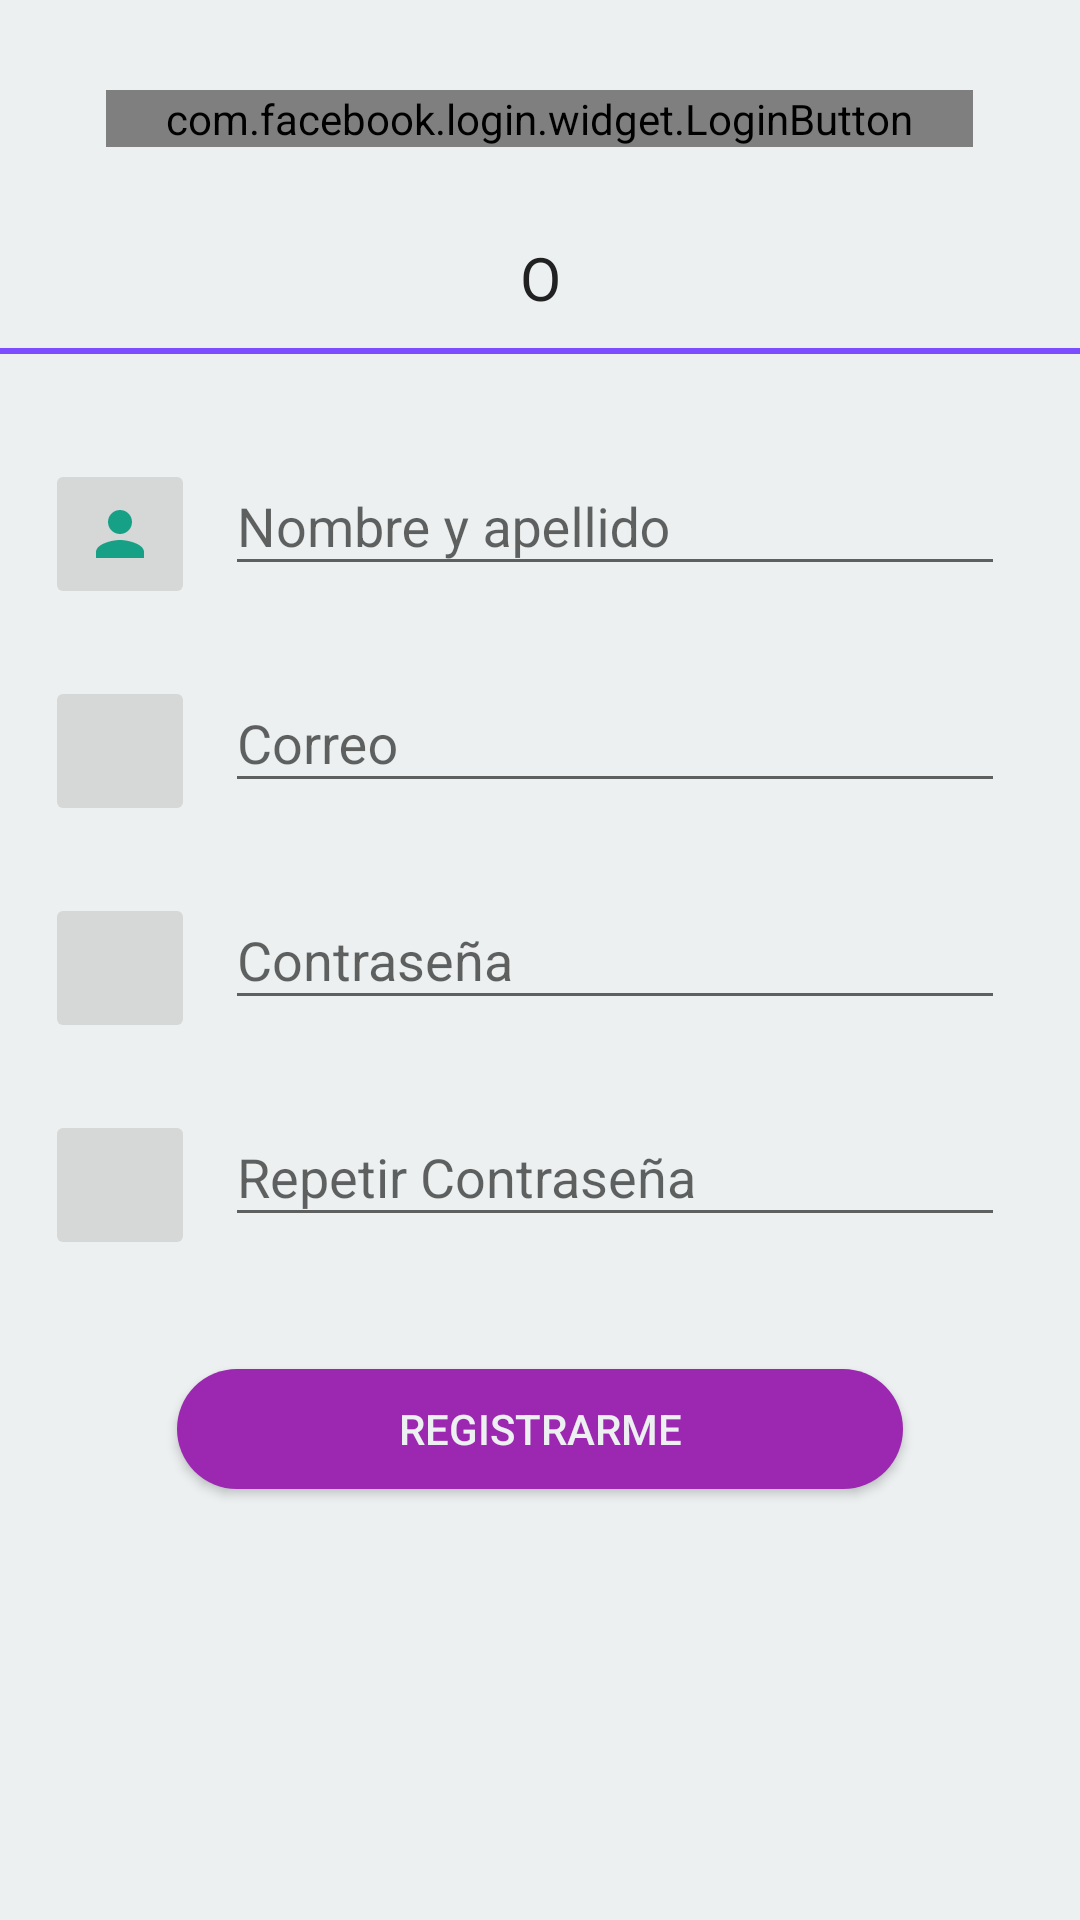

Screen size 1080px×1920px. Icon name, then its box in pixels as (x1, y1, x2, y2):
person: (57, 477, 183, 591)
